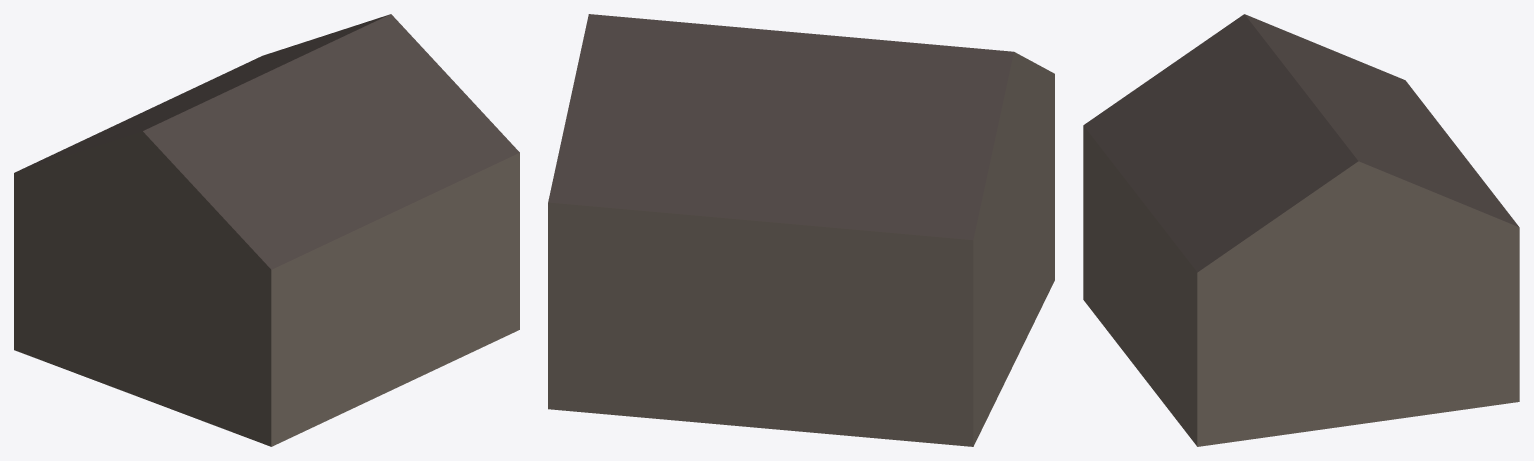
The picture shows the model from 3 angles, left to right: view 1: azimuth 30°, elevation 25°; view 2: azimuth 150°, elevation 25°; view 3: azimuth 270°, elevation 25°; orthographic projection. The views are drawn at different scales.
Parts seen in each view (by area): view 1: HP-w859082466; view 2: HP-w859082466; view 3: HP-w859082466.
Part boxes in pixels (<box>): HP-w859082466: <box>14,14,519,446</box>; HP-w859082466: <box>548,14,1054,446</box>; HP-w859082466: <box>1083,14,1519,446</box>.
Bounding box in the file's own units: 14.19 × 9.05 × 13.6.
